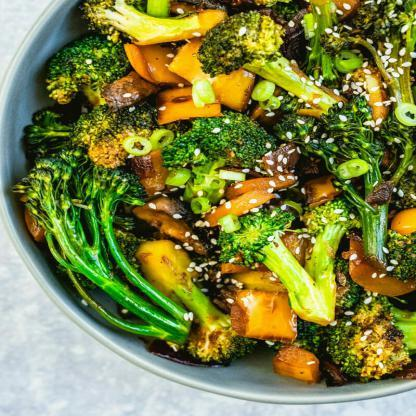broccoli: (16, 0, 415, 390)
